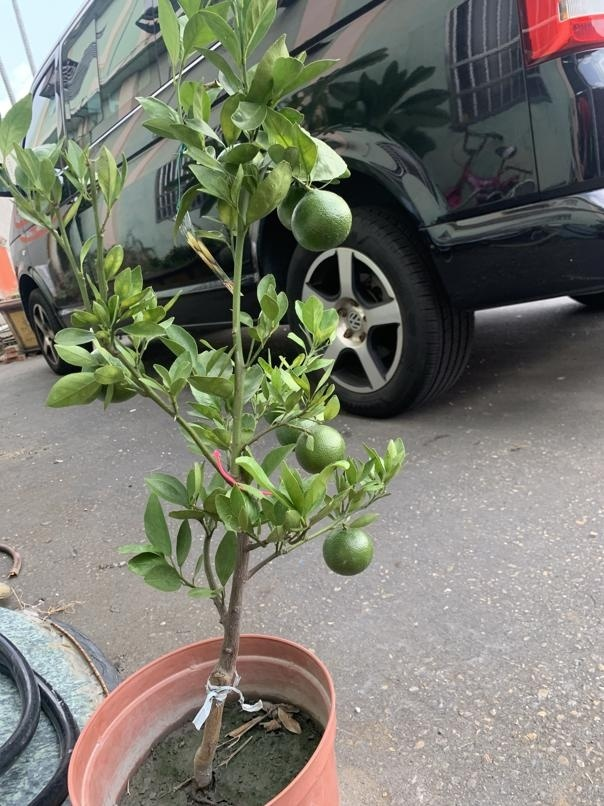Tangerine: (289, 185, 351, 253), (318, 519, 375, 577), (294, 428, 350, 474)
